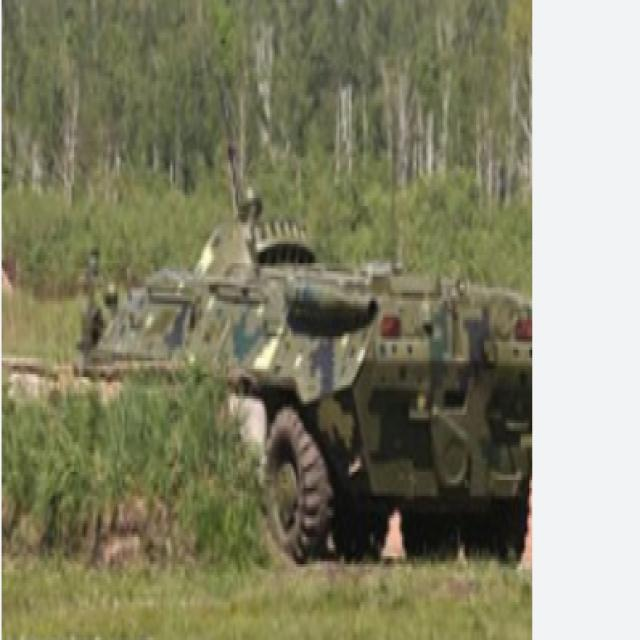MIL_APC: (68, 200, 542, 590)
